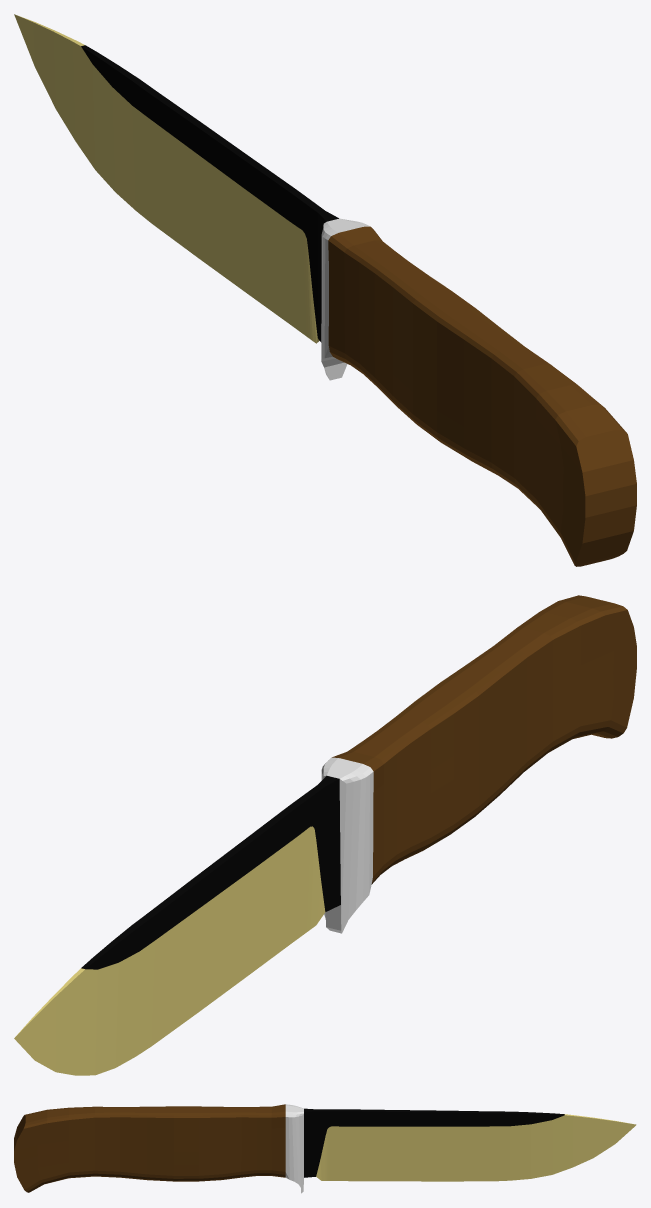
File: Knife.fbx
3 views of the same model, one above another, from view 1: azimuth 30°, elevation 25°; view 2: azimuth 150°, elevation 25°; view 3: azimuth 270°, elevation 25° (orthographic). The views are drawn at different scales.
Visible parts, largest first — view 1: Knife; view 2: Knife; view 3: Knife.
Part boxes in pixels (x1,y1,x2,y2): Knife: (14,14,636,566); Knife: (14,595,636,1075); Knife: (14,1104,636,1193).
Bounding box in the file's own units: 25.52 × 75.85 × 512.
